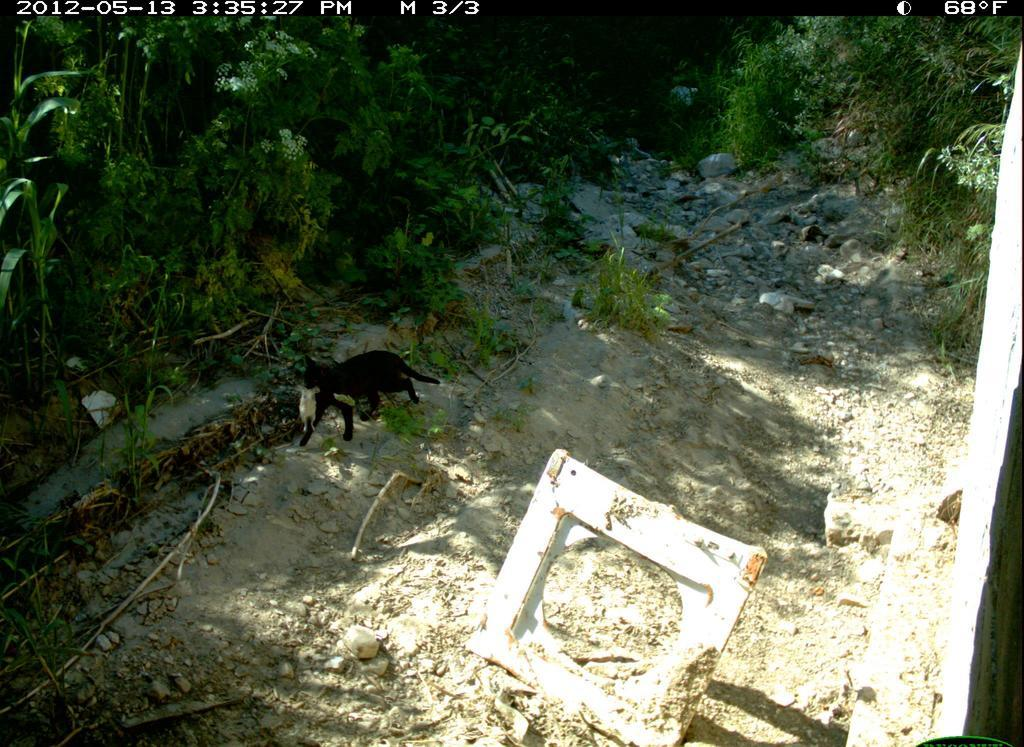cat: (286, 338, 450, 452)
